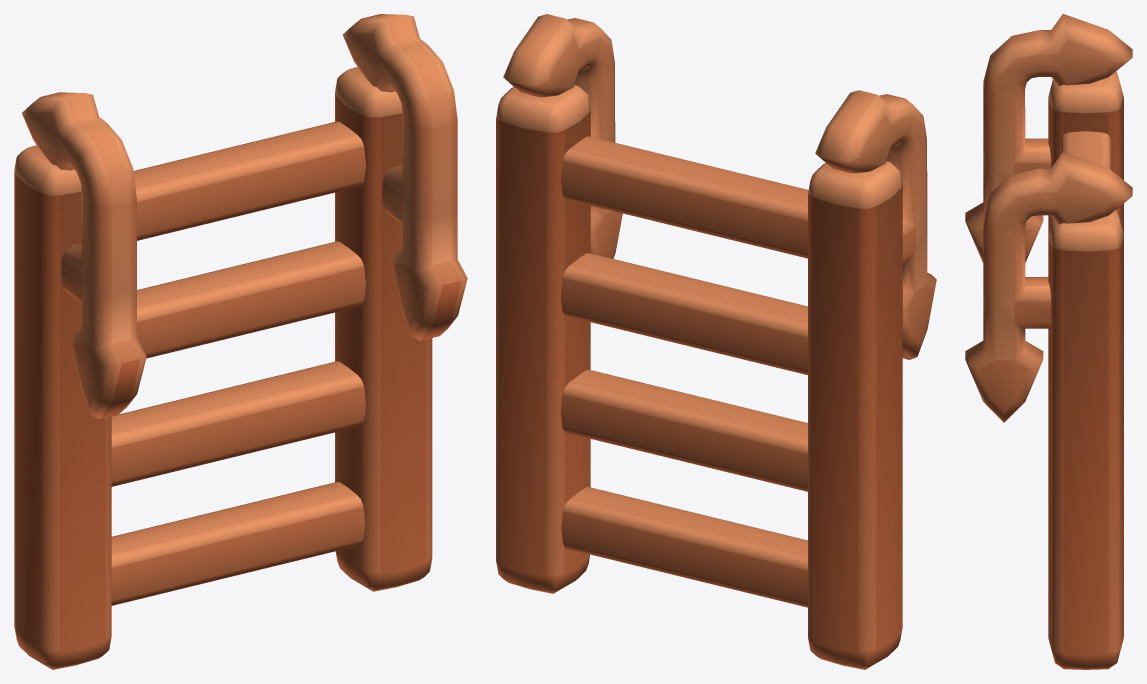
Rendered from Brass_Ladder_Top.fbx.
The picture shows the model from 3 angles, left to right: view 1: azimuth 30°, elevation 25°; view 2: azimuth 150°, elevation 25°; view 3: azimuth 270°, elevation 25°; orthographic projection. The views are drawn at different scales.
Visible parts, largest first — view 1: Brass_Ladder_Top_LOD0; view 2: Brass_Ladder_Top_LOD0; view 3: Brass_Ladder_Top_LOD0.
Boxes of the visible parts, left/top/right/bottom form: Brass_Ladder_Top_LOD0: left=14, top=14, right=467, bottom=669; Brass_Ladder_Top_LOD0: left=496, top=14, right=936, bottom=669; Brass_Ladder_Top_LOD0: left=965, top=14, right=1132, bottom=669.
Size of what is drawn, in the model's own units: 0.8613 by 1.19 by 0.3586.
